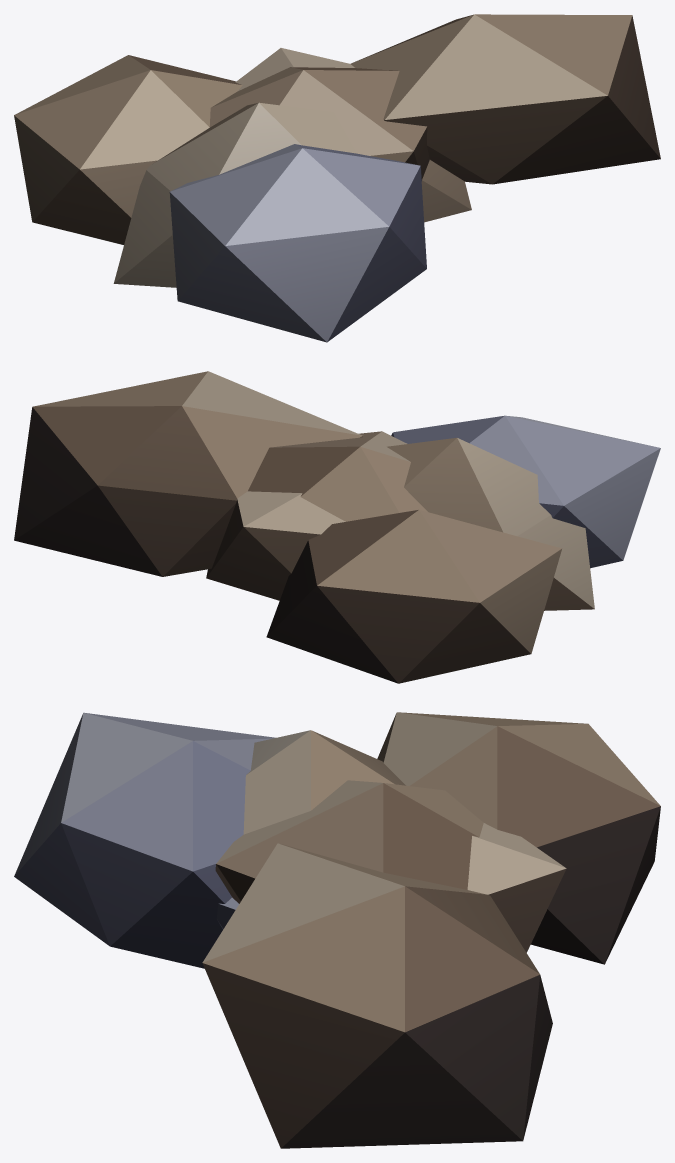
The model's file is rock_pile.glb.
The picture shows the model from 3 angles, top to bottom: view 1: azimuth 30°, elevation 25°; view 2: azimuth 150°, elevation 25°; view 3: azimuth 270°, elevation 25°; orthographic projection. The views are drawn at different scales.
Visible parts, largest first — view 1: rock_pile; view 2: rock_pile; view 3: rock_pile.
Boxes of the visible parts, x1,y1,x2,y2 form: rock_pile: [14, 14, 660, 342]; rock_pile: [14, 371, 660, 683]; rock_pile: [14, 712, 660, 1148].
Size of the model in its own units: 0.618 by 0.1581 by 0.4892.
